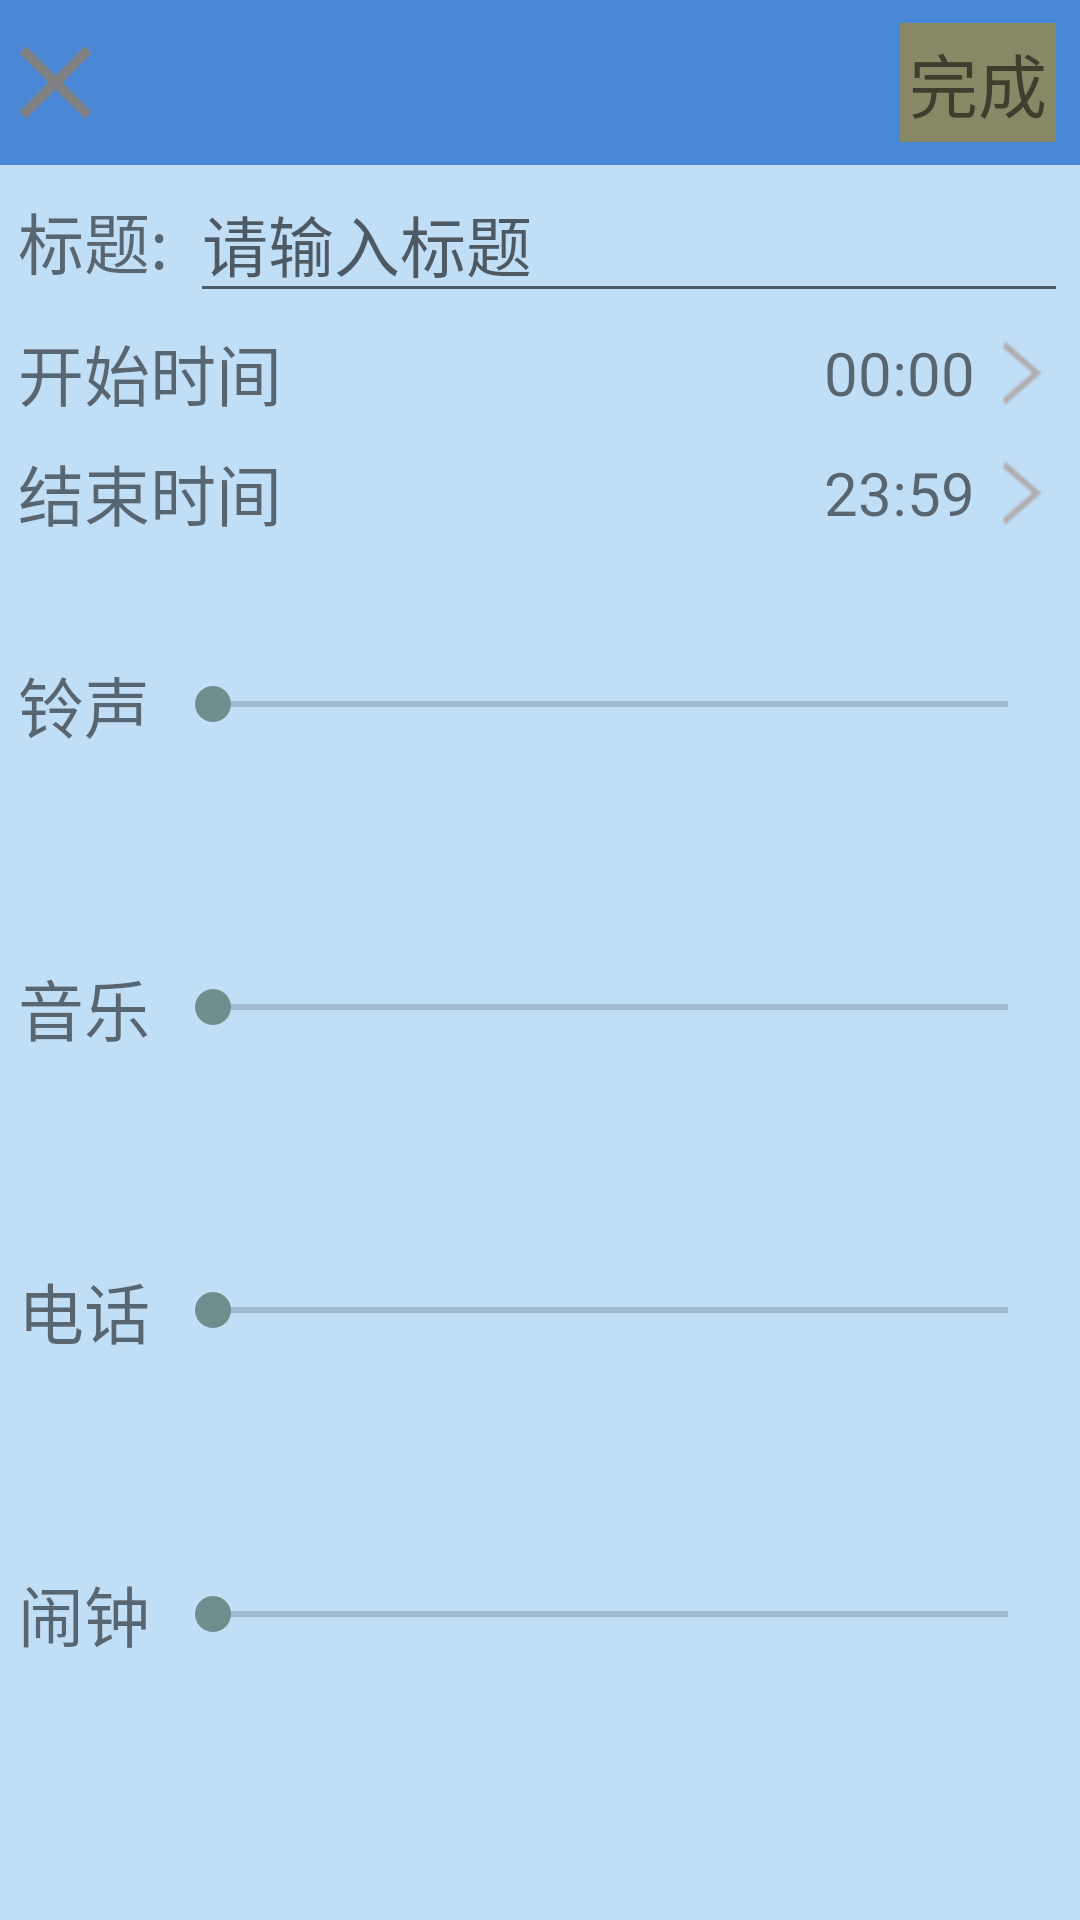

Screen size 1080 × 1920. Icon name, then its center in pixels as (x,y):
addwind exitimg: (56,82)
exstensionicon: (1022,373), (1022,493)
